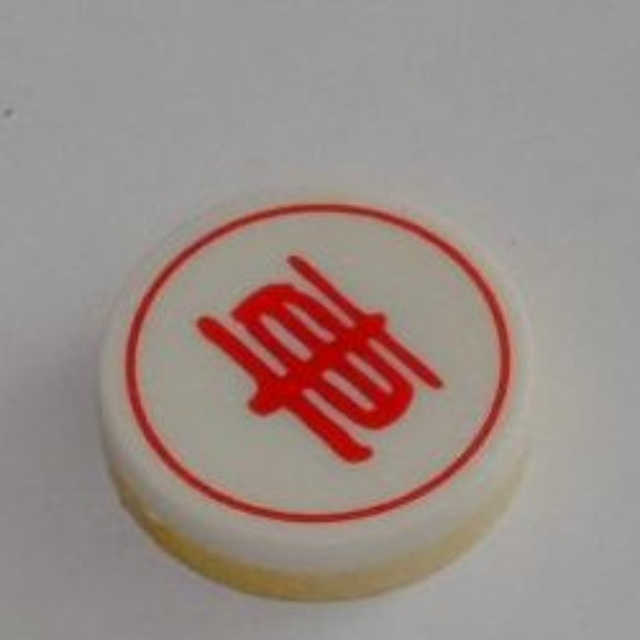red_xe: (87, 176, 544, 603)
